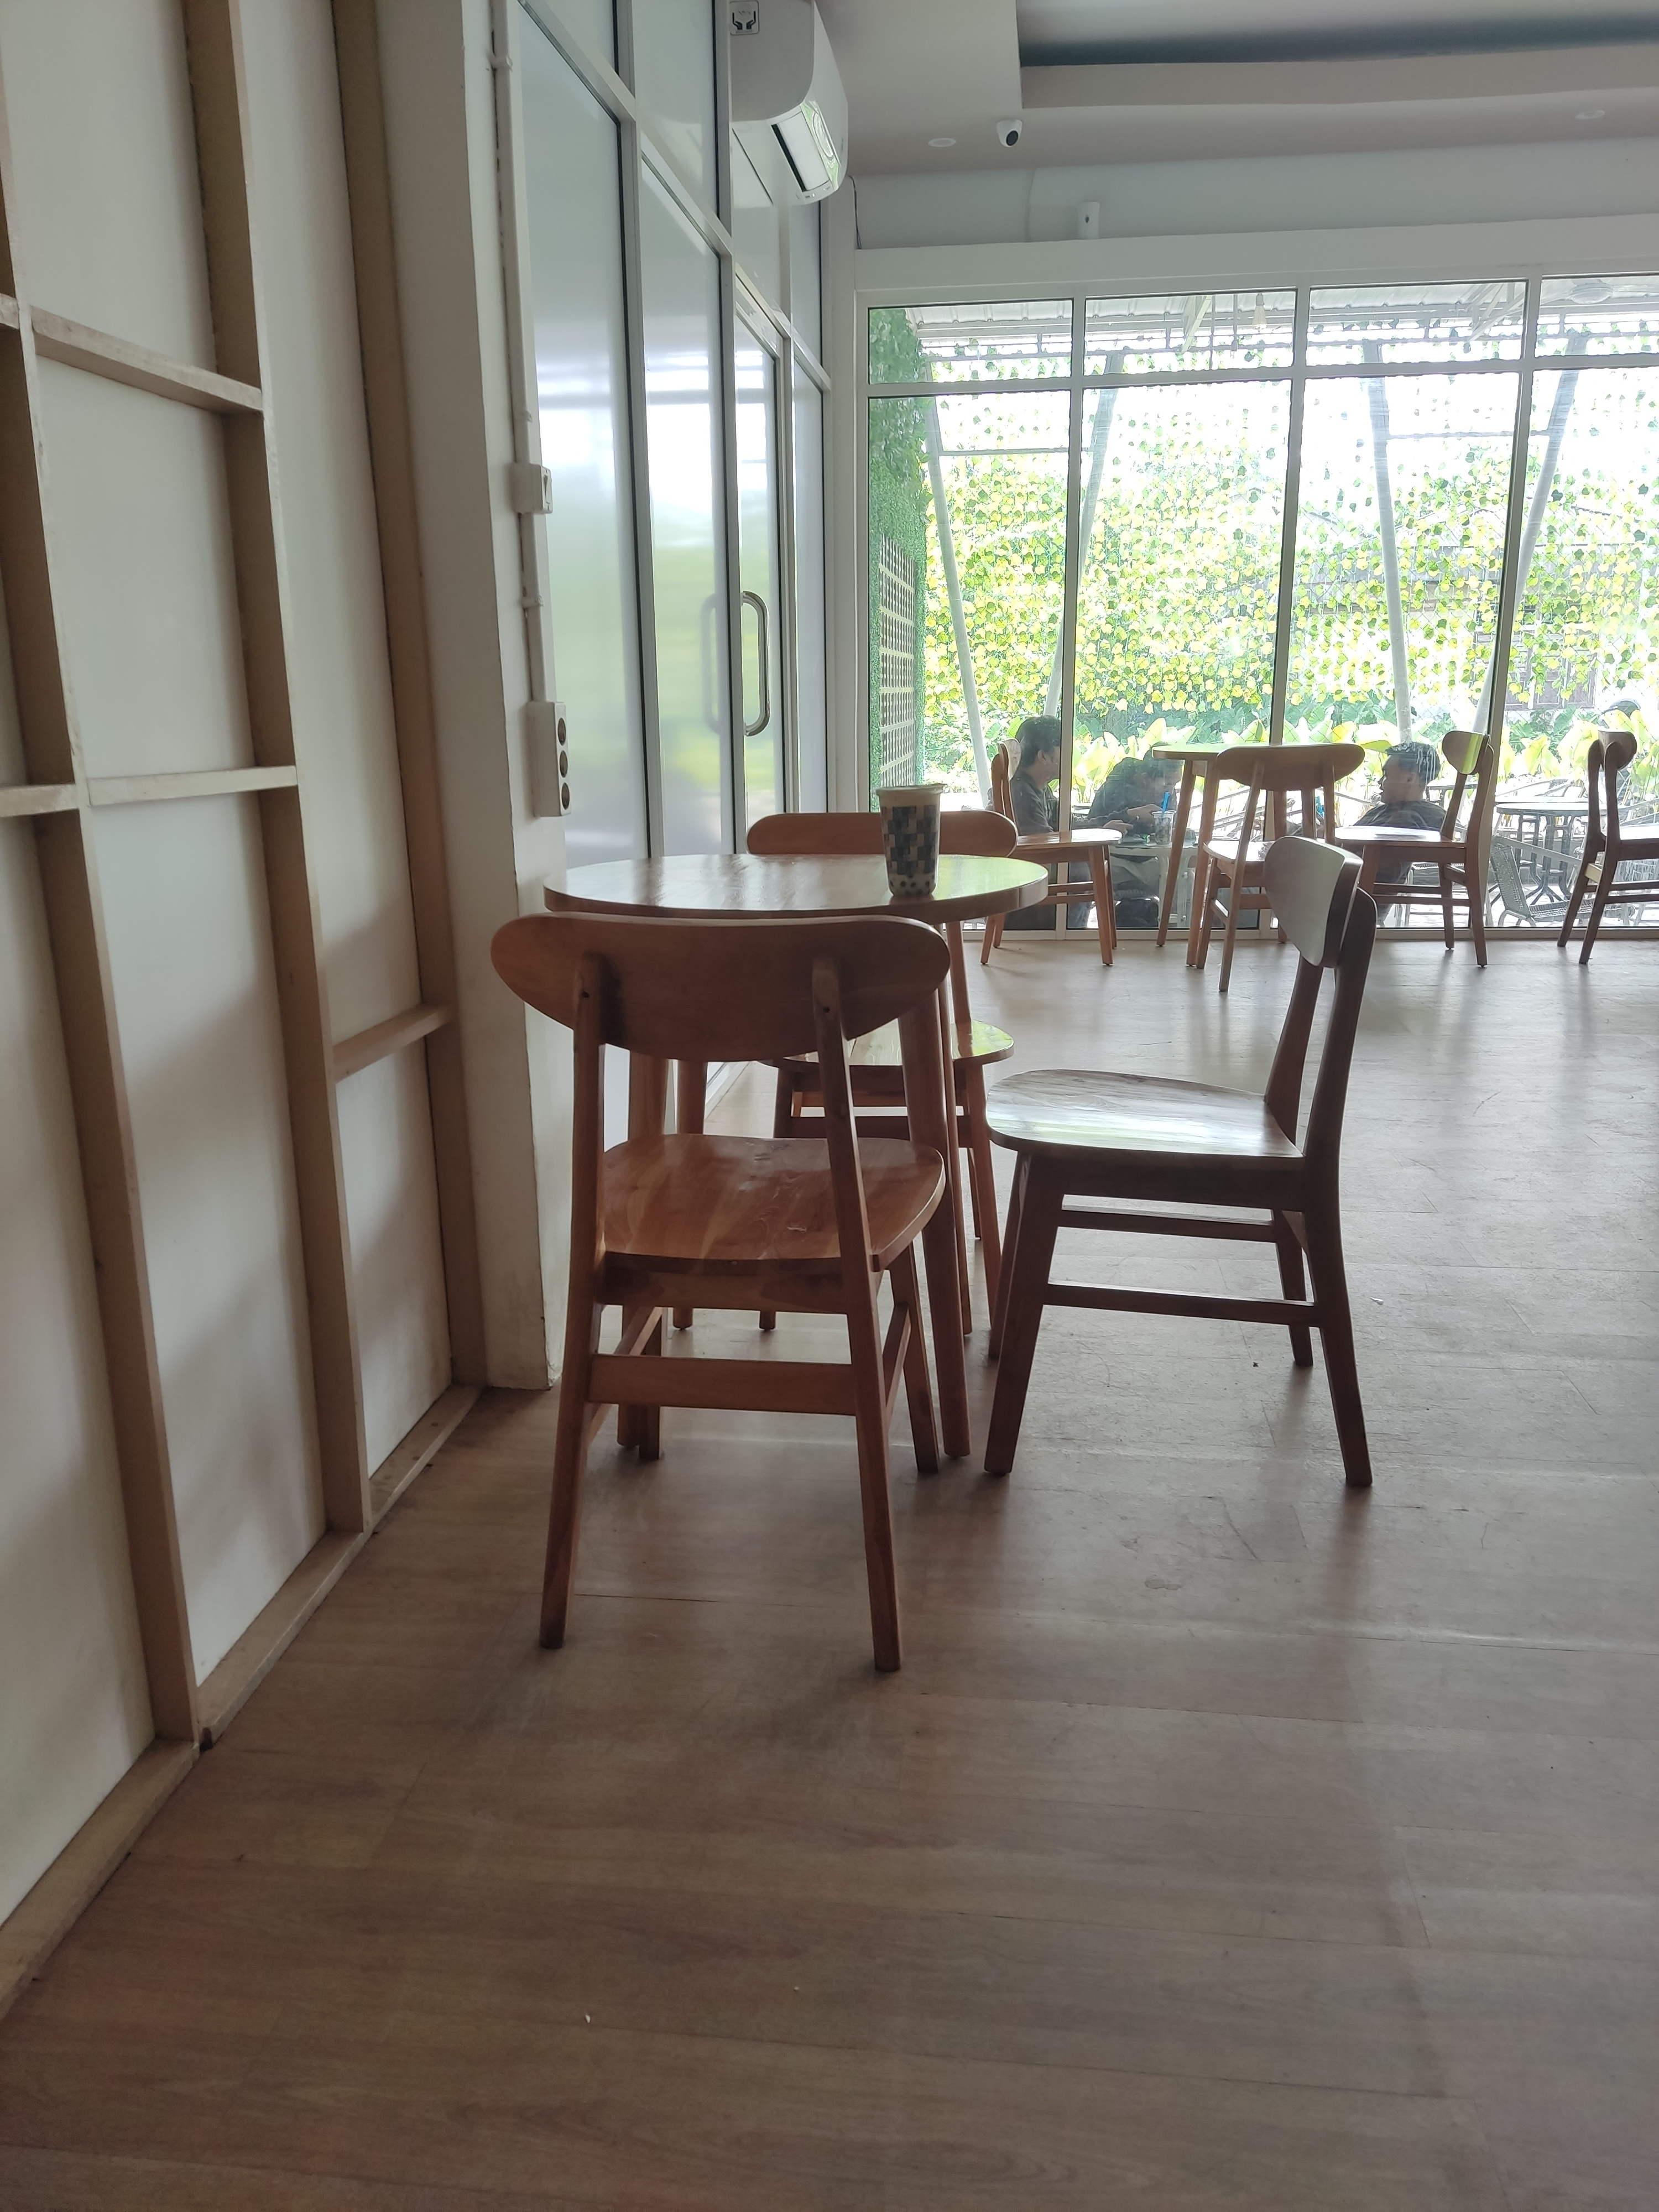Gelas CW: (877, 786, 946, 900)
